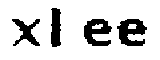e: (115, 18, 150, 51), (81, 17, 112, 48)
l: (47, 4, 69, 50)
x: (9, 14, 42, 50)
